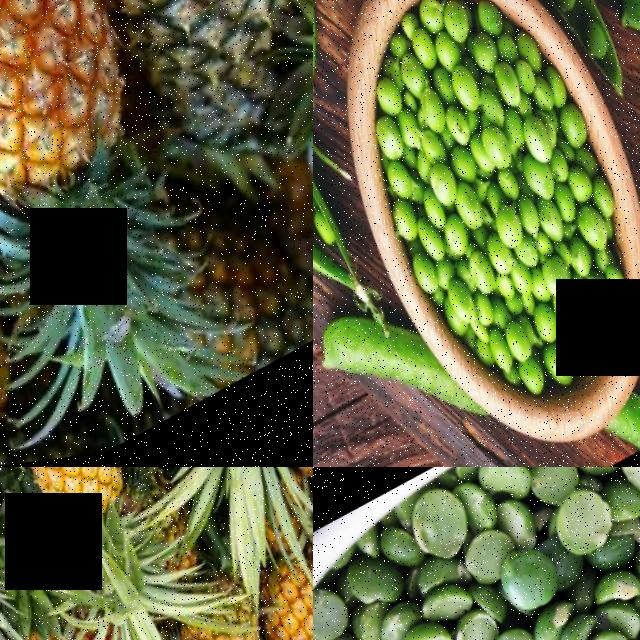peas: (324, 0, 640, 444), (313, 467, 640, 640)
pineapple: (0, 0, 193, 312), (16, 0, 313, 195), (1, 467, 159, 594), (269, 69, 313, 341)
